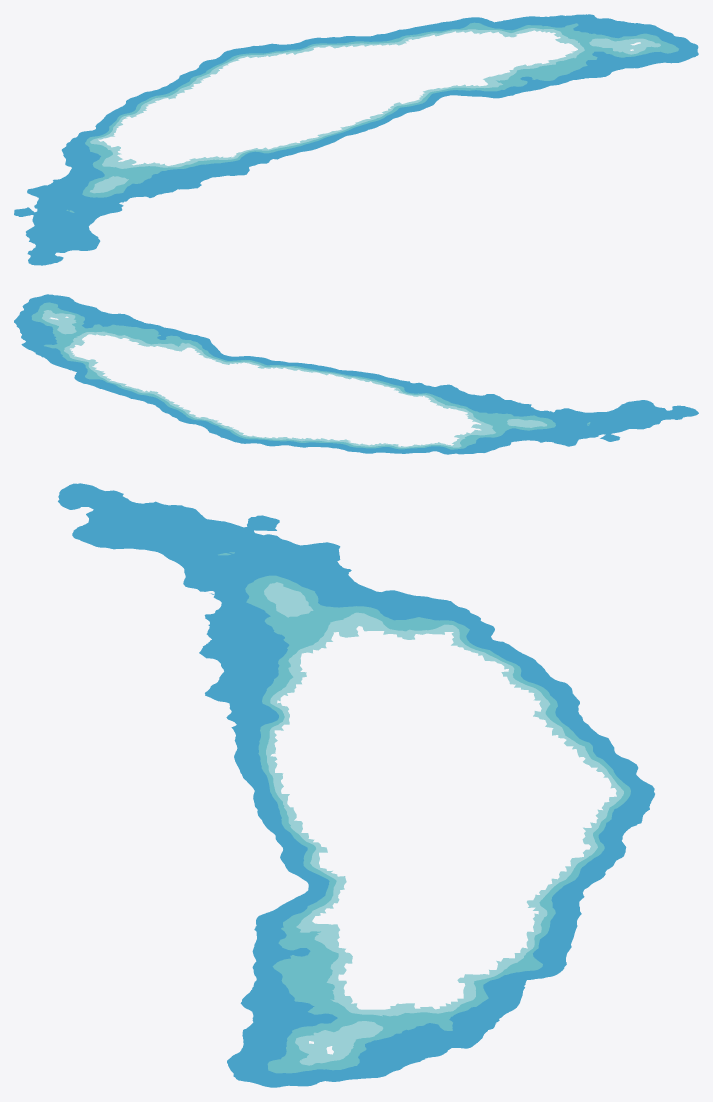
Rendered from Isl-long5-Water.fbx.
3 views of the same model, one above another, from view 1: azimuth 30°, elevation 25°; view 2: azimuth 150°, elevation 25°; view 3: azimuth 270°, elevation 25° (orthographic). The views are drawn at different scales.
Parts seen in each view (by area): view 1: Isl-long5-Water; view 2: Isl-long5-Water; view 3: Isl-long5-Water.
Boxes of the visible parts, bbox=[...] form: Isl-long5-Water: bbox=[14, 14, 698, 265]; Isl-long5-Water: bbox=[14, 294, 698, 454]; Isl-long5-Water: bbox=[58, 483, 654, 1087].
Bounding box in the file's own units: 227 × 0 × 94.97.
